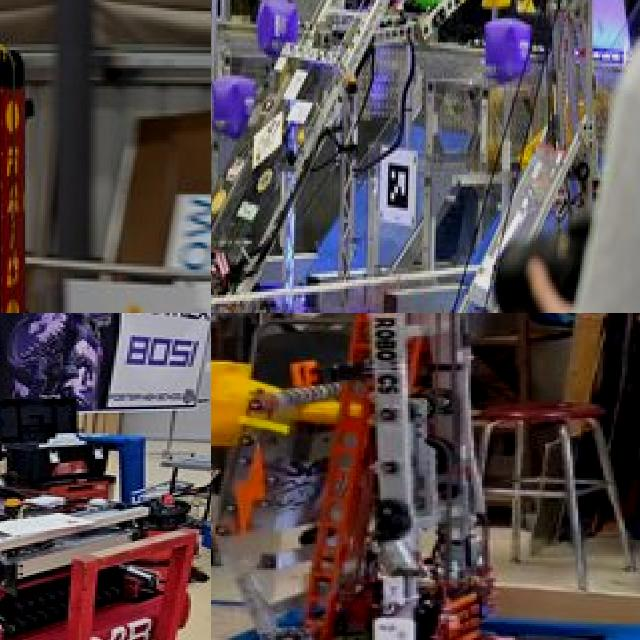FRC-Robots: (211, 313, 640, 640), (211, 0, 379, 313), (0, 394, 211, 640), (0, 43, 148, 313)
